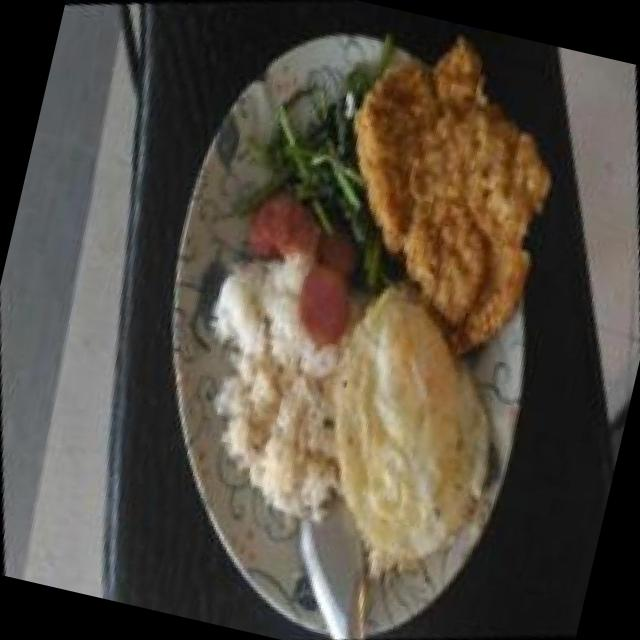chinese_sausage: (222, 169, 386, 341)
fried_chicken: (292, 2, 616, 386)
fried_eggs: (275, 256, 550, 596)
rice: (171, 232, 391, 525)
water_spinach: (264, 71, 391, 229)
